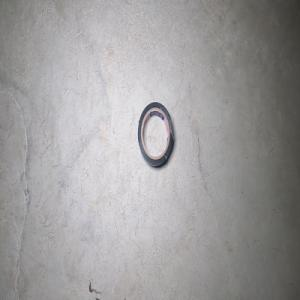Tape: (137, 101, 174, 166)
